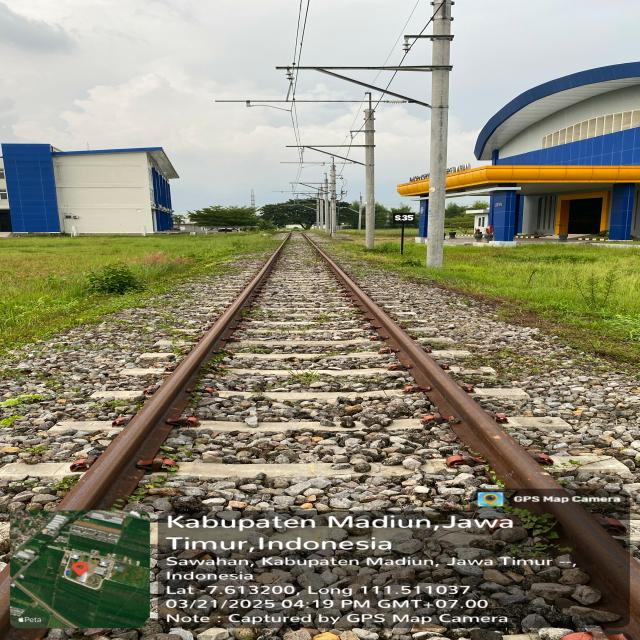rail-detection: (303, 232, 637, 604), (301, 233, 553, 489), (59, 241, 284, 510), (60, 245, 284, 510), (281, 231, 291, 247)
